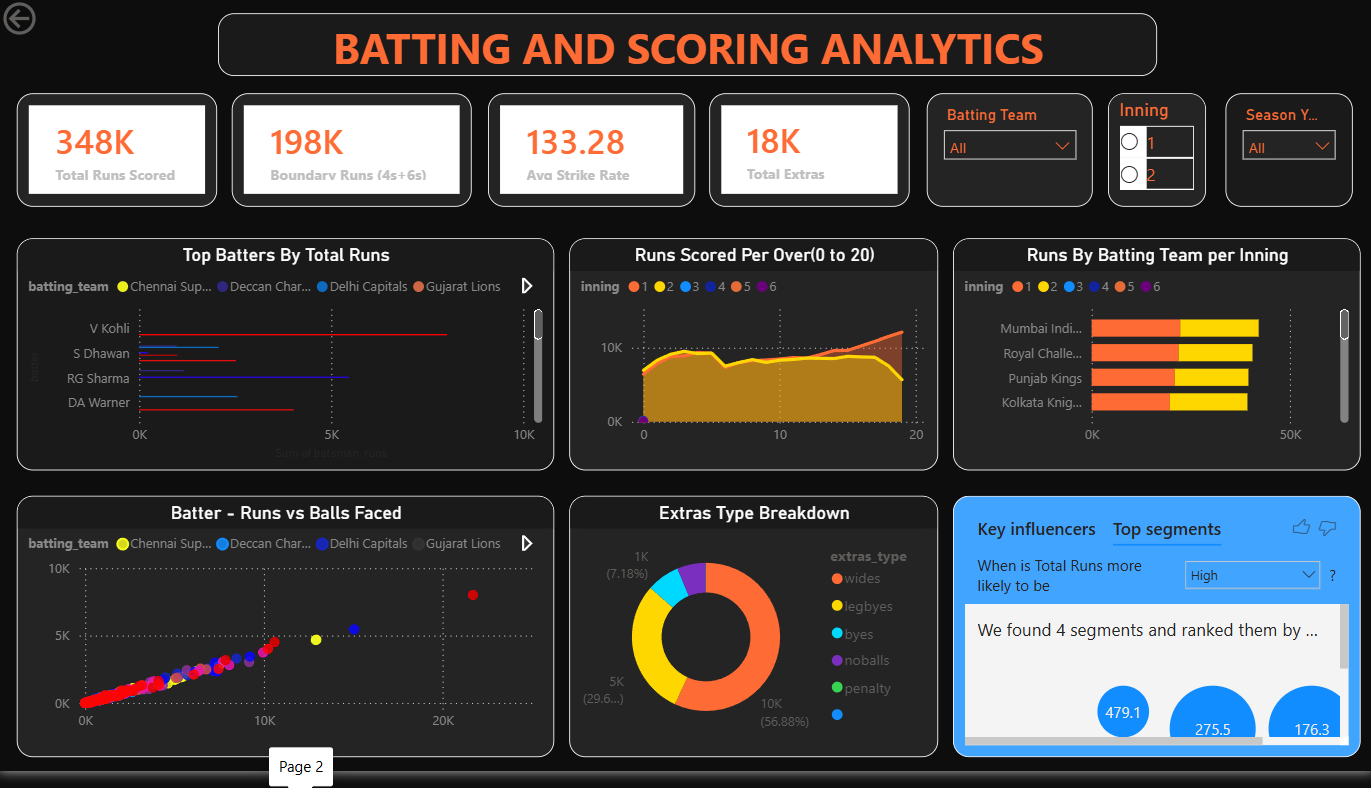

This screenshot's page, from the dashboard's own definition file:
{"tool":"powerbi","page":{"name":"Page 2","canvas":[1280,720],"ordinal":1},"visuals":[{"type":"cardVisual","fields":{"Data":["deliveries.Total Runs"]},"box":[17.4,89.5,186,105.8],"z":0},{"type":"cardVisual","fields":{"Data":["deliveries.Strike Rate"]},"box":[455.8,89.5,193,105.8],"z":1000},{"type":"cardVisual","fields":{"Data":["Sum(deliveries.batsman_runs)"]},"box":[217.4,89.5,223.3,105.8],"z":2000},{"type":"cardVisual","fields":{"Data":["Sum(deliveries.extra_runs)"]},"box":[661.6,89.5,186,105.8],"z":3000},{"type":"clusteredBarChart","title":"Top Batters By Total Runs","fields":{"Category":["deliveries.batter"],"Y":["Sum(deliveries.batsman_runs)"],"Series":["deliveries.batting_team"]},"box":[17.4,224.4,500,216.3],"z":4000},{"type":"areaChart","title":"Runs Scored Per Over(0 to 20)","fields":{"Category":["deliveries.over"],"Y":["deliveries.Total Runs"],"Series":["deliveries.inning"]},"box":[531.4,224.4,343,216.3],"z":5000},{"type":"actionButton","box":[0,0,100,40],"z":6000},{"type":"scatterChart","title":"Batter - Runs vs Balls Faced","fields":{"X":["Sum(deliveries.ball)"],"Y":["Sum(deliveries.batsman_runs)"],"Category":["deliveries.batter"],"Series":["deliveries.batting_team"]},"box":[17.4,464,500,243],"z":7000},{"type":"donutChart","title":"Extras Type Breakdown","fields":{"Category":["deliveries.extras_type"],"Y":["Sum(deliveries.extra_runs)"]},"box":[531.4,464,343,243],"z":8000},{"type":"barChart","title":"Runs By Batting Team per Inning","fields":{"Category":["deliveries.batting_team"],"Y":["deliveries.Total Runs"],"Series":["deliveries.inning"]},"box":[888.4,224.4,379.1,216.3],"z":9000},{"type":"keyDriversVisual","fields":{"Target":["deliveries.Total Runs"],"ExplainBy":["deliveries.batting_team","Sum(deliveries.inning)","Sum(deliveries.over)","deliveries.bowler"]},"box":[888.4,464,379.1,243],"z":10000},{"type":"slicer","fields":{"Values":["deliveries.batting_team"]},"box":[864,89.5,154.7,105.8],"z":11000},{"type":"listSlicer","fields":{"Values":["deliveries.inning"]},"box":[1032.9,90,91.4,105.7],"z":12000},{"type":"textbox","title":"BATTING AND SCORING ANALYTICS","box":[205,15,873.3,58.3],"z":13000},{"type":"slicer","fields":{"Values":["Sheet1.Season_Year"]},"box":[1141.4,90,118.6,105.7],"z":14000}]}

Visuals, with their boxes in screenshot pixels (x1, y1, x2, y2), scaled from the page's 1280x720 canvas onto the 1371x788 screenshot:
cardVisual - deliveries.Total Runs: (left=19, top=98, right=218, bottom=214)
cardVisual - deliveries.Strike Rate: (left=488, top=98, right=695, bottom=214)
cardVisual - Sum(deliveries.batsman_runs): (left=233, top=98, right=472, bottom=214)
cardVisual - Sum(deliveries.extra_runs): (left=709, top=98, right=908, bottom=214)
"Top Batters By Total Runs" clusteredBarChart: (left=19, top=246, right=554, bottom=482)
"Runs Scored Per Over(0 to 20)" areaChart: (left=569, top=246, right=937, bottom=482)
actionButton: (left=0, top=0, right=107, bottom=44)
"Batter - Runs vs Balls Faced" scatterChart: (left=19, top=508, right=554, bottom=774)
"Extras Type Breakdown" donutChart: (left=569, top=508, right=937, bottom=774)
"Runs By Batting Team per Inning" barChart: (left=952, top=246, right=1358, bottom=482)
keyDriversVisual - deliveries.Total Runs x deliveries.batting_team: (left=952, top=508, right=1358, bottom=774)
slicer - deliveries.batting_team: (left=925, top=98, right=1091, bottom=214)
listSlicer - deliveries.inning: (left=1106, top=99, right=1204, bottom=214)
"BATTING AND SCORING ANALYTICS" textbox: (left=220, top=16, right=1155, bottom=80)
slicer - Sheet1.Season_Year: (left=1223, top=99, right=1350, bottom=214)
